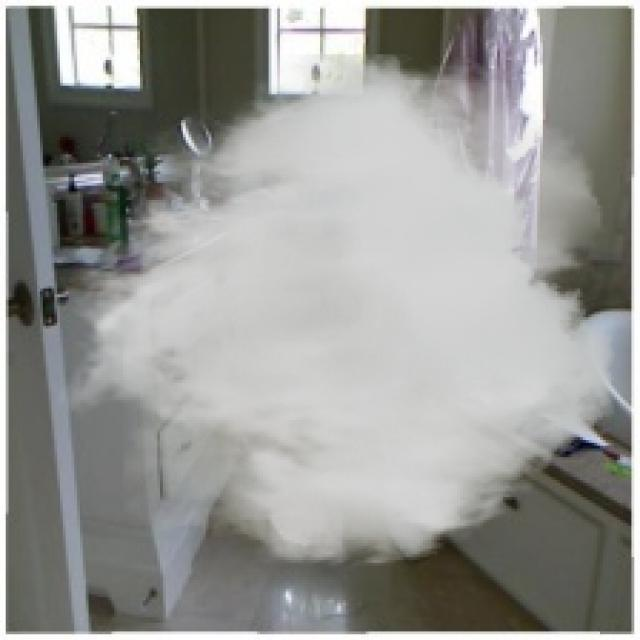Smoke: (55, 54, 614, 572)
